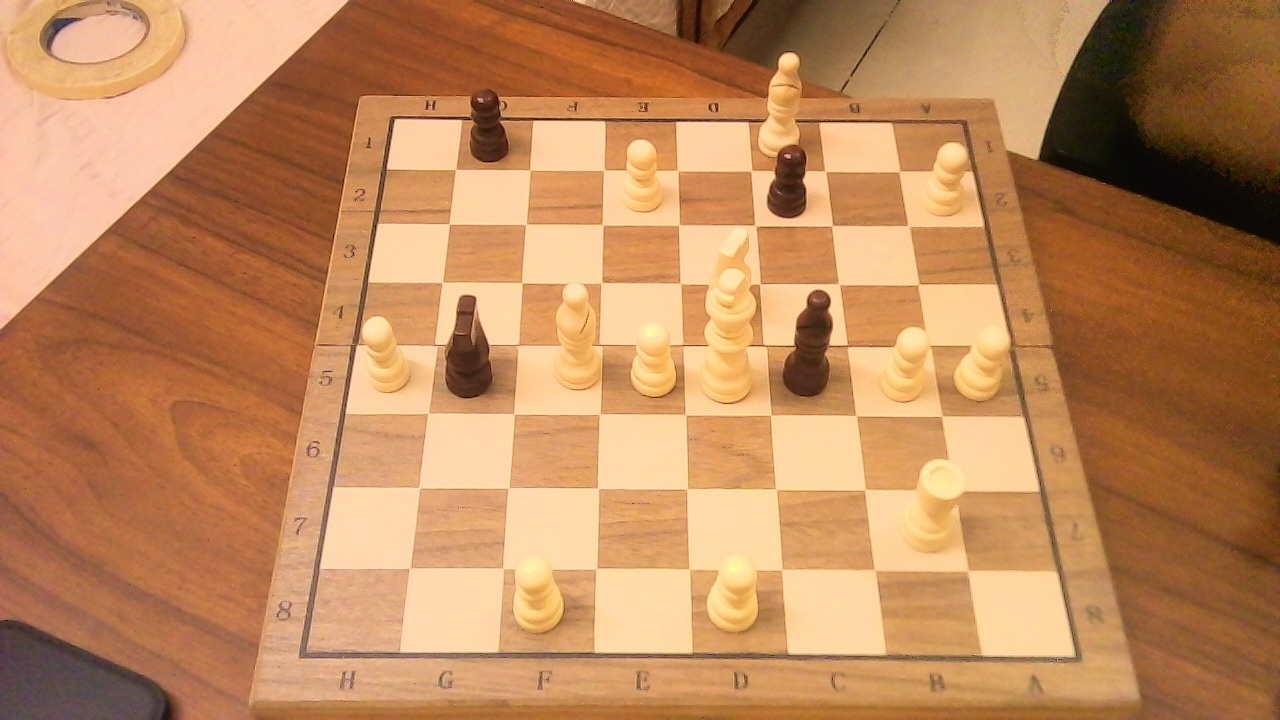B: (543, 271, 605, 396), (754, 41, 813, 162)
K: (692, 254, 766, 408)
N: (694, 216, 760, 325)
P: (504, 543, 572, 638), (699, 544, 767, 636), (948, 316, 1019, 404), (872, 318, 937, 407), (354, 307, 417, 398), (618, 312, 681, 401), (915, 133, 977, 219), (611, 130, 669, 217)
R: (892, 448, 972, 560)
b: (777, 276, 850, 401)
n: (436, 281, 506, 401)
p: (759, 135, 819, 222), (463, 79, 518, 165)
